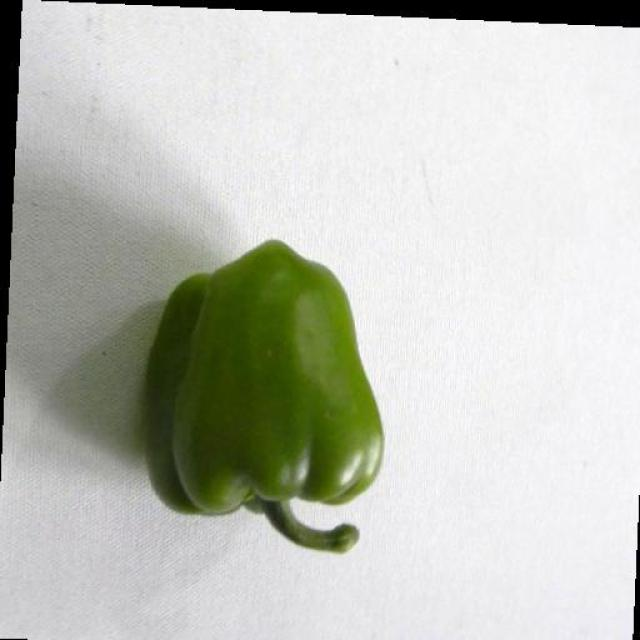Fresh_Capsicum: (152, 243, 373, 532)
